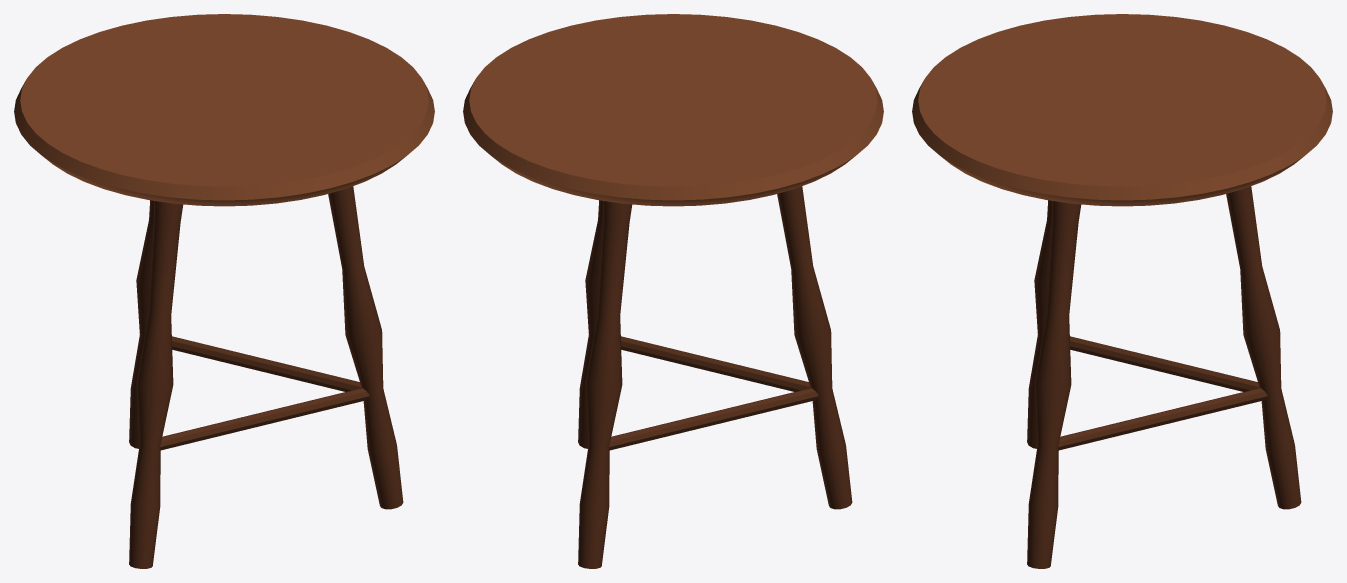
Rendered from PR_RoundTable.fbx.
The picture shows the model from 3 angles, left to right: view 1: azimuth 30°, elevation 25°; view 2: azimuth 150°, elevation 25°; view 3: azimuth 270°, elevation 25°; orthographic projection.
Visible parts, largest first — view 1: PR_RoundTable_Wood, PR_RoundTable_WoodDark; view 2: PR_RoundTable_Wood, PR_RoundTable_WoodDark; view 3: PR_RoundTable_Wood, PR_RoundTable_WoodDark.
Boxes of the visible parts, <box> form: PR_RoundTable_Wood: <box>14,14,434,206</box>; PR_RoundTable_WoodDark: <box>129,186,403,568</box>; PR_RoundTable_Wood: <box>463,14,883,206</box>; PR_RoundTable_WoodDark: <box>578,186,852,568</box>; PR_RoundTable_Wood: <box>912,14,1332,206</box>; PR_RoundTable_WoodDark: <box>1027,186,1301,568</box>.
Size of the model in its own units: 0.68 by 0.7228 by 0.68.
